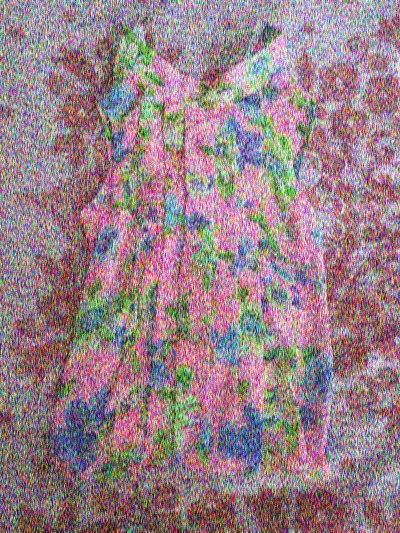Dress: (41, 28, 369, 507)
